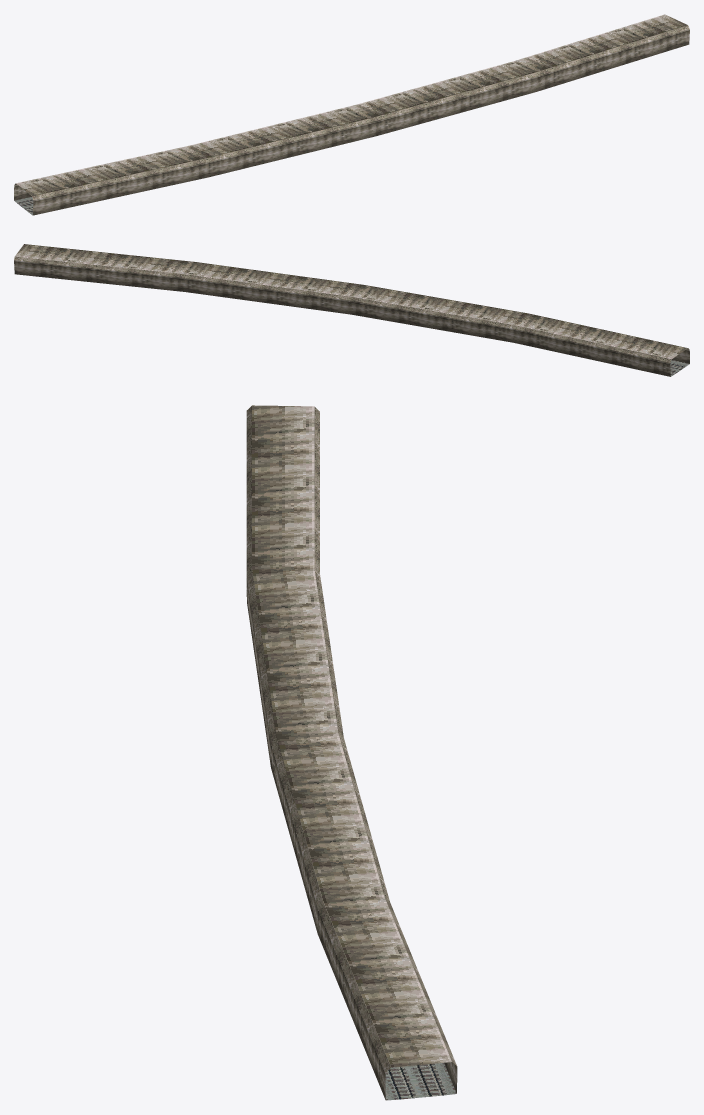
Rendered from lodltunn03_law2.obj.
3 renders of one model, top to bottom at view 1: azimuth 30°, elevation 25°; view 2: azimuth 150°, elevation 25°; view 3: azimuth 270°, elevation 25°, orthographic. The views are drawn at different scales.
Parts seen in each view (by area): view 1: LODlTunn03_LAw2; view 2: LODlTunn03_LAw2; view 3: LODlTunn03_LAw2.
Boxes of the visible parts, <box> form: LODlTunn03_LAw2: <box>14,14,689,215</box>; LODlTunn03_LAw2: <box>14,244,689,376</box>; LODlTunn03_LAw2: <box>246,405,457,1100</box>.
Bounding box in the file's own units: 227 × 13.98 × 32.83.
2 materials, 2 textured.
